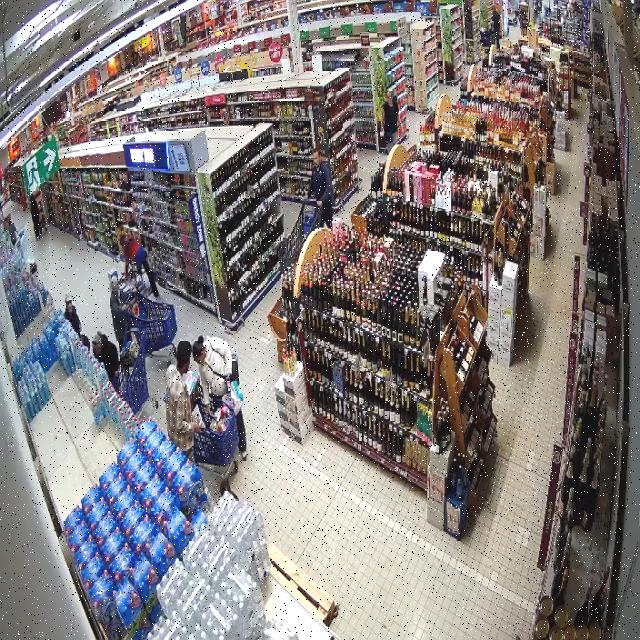hands: (205, 404, 211, 417), (195, 423, 202, 434), (315, 200, 321, 207)
person: (166, 340, 200, 462), (192, 336, 232, 420), (307, 149, 334, 227), (92, 332, 118, 382), (238, 410, 245, 459)
